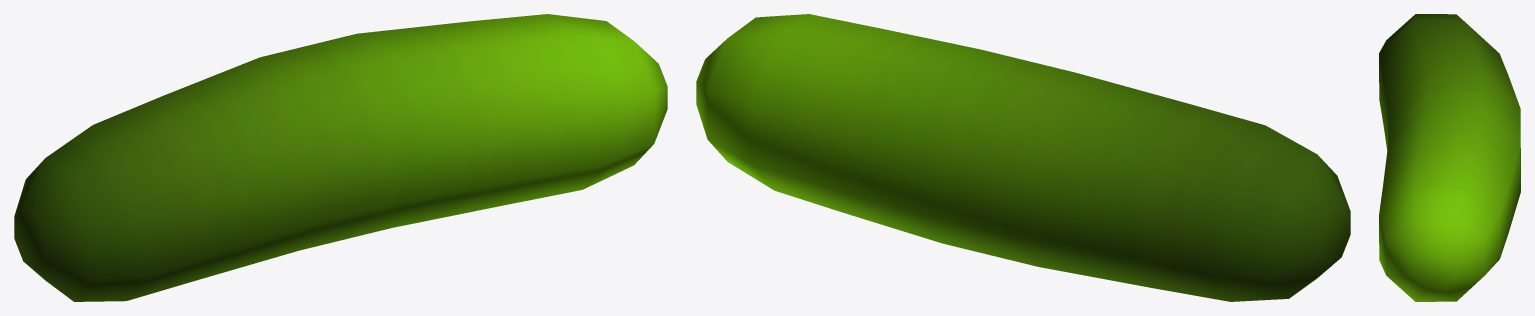
The model's file is SM_Cucumber_1.1.fbx.
3 renders of one model, left to right at view 1: azimuth 30°, elevation 25°; view 2: azimuth 150°, elevation 25°; view 3: azimuth 270°, elevation 25°, orthographic. The views are drawn at different scales.
Visible parts, largest first — view 1: SM_Cucumber_1.1; view 2: SM_Cucumber_1.1; view 3: SM_Cucumber_1.1.
Part boxes in pixels (x1,y1,x2,y2): SM_Cucumber_1.1: (14, 14, 667, 301); SM_Cucumber_1.1: (696, 14, 1350, 301); SM_Cucumber_1.1: (1379, 14, 1520, 301).
Bounding box in the file's own units: 25.46 × 6.49 × 6.92.
Materials: 1 (1 with a texture image).
